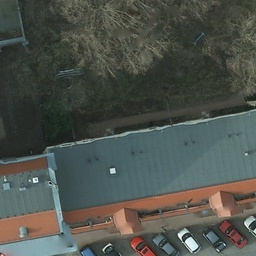car: (220, 221, 246, 249), (203, 227, 225, 254), (178, 228, 200, 255), (153, 229, 175, 256), (130, 237, 151, 256)
